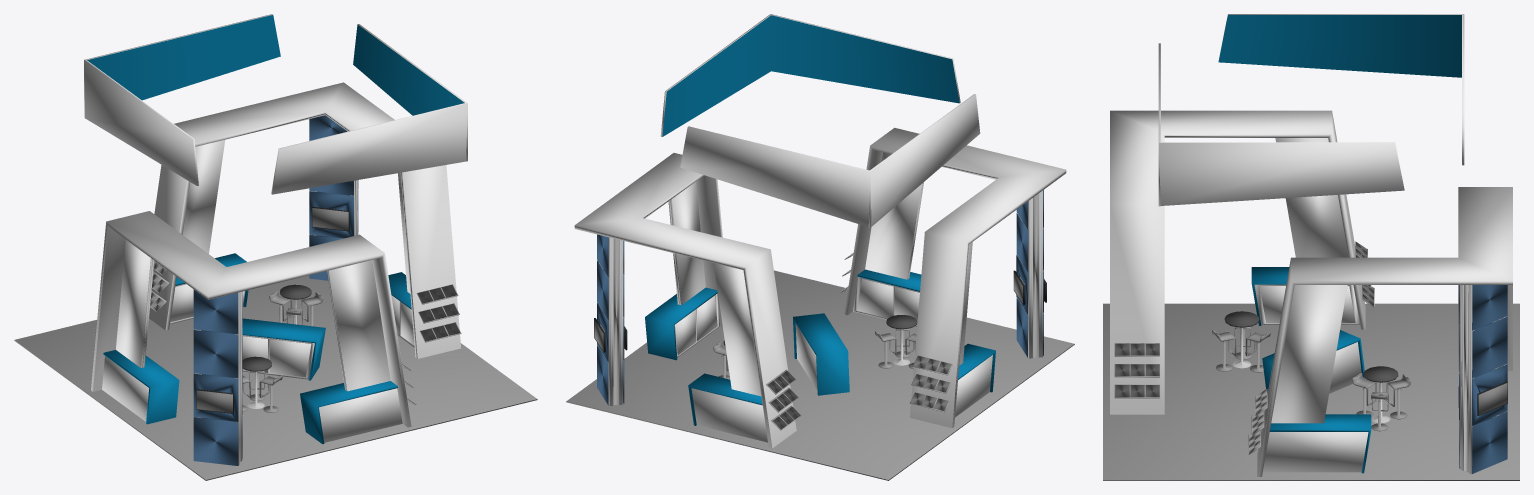
3 views of the same model, side by side, from view 1: azimuth 30°, elevation 25°; view 2: azimuth 150°, elevation 25°; view 3: azimuth 270°, elevation 25° (orthographic). The views are drawn at different scales.
Parts seen in each view (by area): view 1: Scene_0.018, Scene_0.019, Scene_0.017, Scene_0.016, Scene_0.004, Scene_0.023, Scene_0.007, Scene_0.024, Scene_0.013, Scene_0.009, Scene_0.021, Scene_0.028 (+7 smaller); view 2: Scene_0.019, Scene_0.018, Scene_0.017, Scene_0.016, Scene_0.023, Scene_0.024, Scene_0.004, Scene_0.014, Scene_0.020, Scene_0.013, Scene_0.008, Scene_0.028 (+6 smaller); view 3: Scene_0.019, Scene_0.018, Scene_0.017, Scene_0.016, Scene_0.011, Scene_0.004, Scene_0.024, Scene_0.010, Scene_0.023, Scene_0.028, Scene_0.000, Scene_0.014 (+5 smaller).
Boxes of the visible parts, x1,y1,x2,y2 form: Scene_0.018: [91, 82, 460, 427]; Scene_0.019: [14, 275, 537, 480]; Scene_0.017: [84, 14, 467, 194]; Scene_0.016: [87, 15, 464, 115]; Scene_0.004: [193, 115, 358, 465]; Scene_0.023: [103, 253, 411, 444]; Scene_0.007: [329, 260, 390, 391]; Scene_0.024: [102, 283, 414, 442]; Scene_0.013: [170, 284, 414, 377]; Scene_0.009: [116, 240, 150, 367]; Scene_0.021: [182, 139, 225, 253]; Scene_0.028: [150, 261, 460, 403]; Scene_0.019: [566, 270, 1074, 480]; Scene_0.018: [574, 127, 1066, 448]; Scene_0.017: [660, 14, 980, 227]; Scene_0.016: [662, 15, 959, 136]; Scene_0.023: [645, 269, 995, 425]; Scene_0.024: [674, 277, 992, 442]; Scene_0.004: [597, 190, 1043, 405]; Scene_0.014: [598, 190, 1042, 430]; Scene_0.020: [713, 263, 761, 396]; Scene_0.013: [675, 279, 919, 355]; Scene_0.008: [865, 152, 921, 279]; Scene_0.028: [768, 253, 951, 429]; Scene_0.019: [1103, 303, 1519, 480]; Scene_0.018: [1110, 110, 1512, 476]; Scene_0.017: [1158, 14, 1464, 206]; Scene_0.016: [1218, 15, 1461, 77]; Scene_0.011: [1271, 285, 1347, 423]; Scene_0.004: [1459, 285, 1507, 473]; Scene_0.024: [1254, 284, 1368, 472]; Scene_0.010: [1275, 138, 1348, 257]; Scene_0.023: [1251, 267, 1371, 473]; Scene_0.028: [1115, 242, 1373, 453]; Scene_0.000: [1212, 326, 1410, 431]; Scene_0.014: [1114, 249, 1506, 474].
Size of the model in its own units: 914 by 914 by 760.
